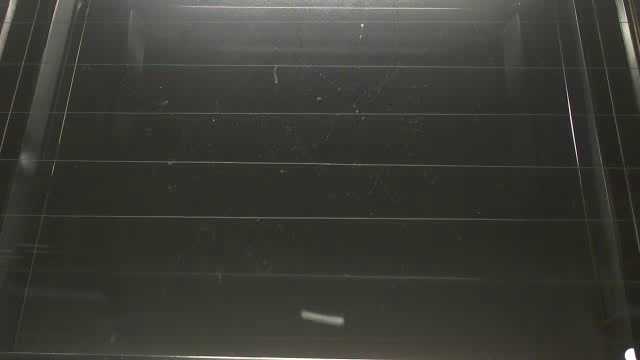Alfa: (298, 305, 348, 330)
